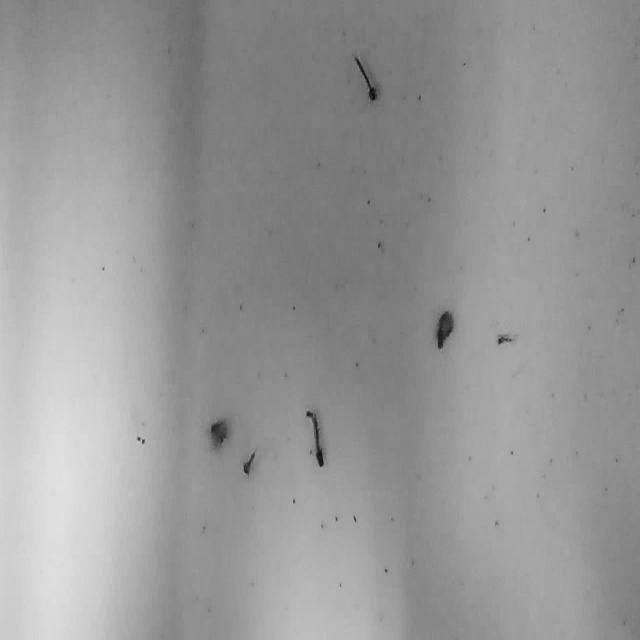larvas: (353, 57, 378, 99), (306, 410, 324, 465), (436, 310, 453, 348), (211, 418, 227, 444), (244, 448, 252, 476), (497, 335, 512, 344)
